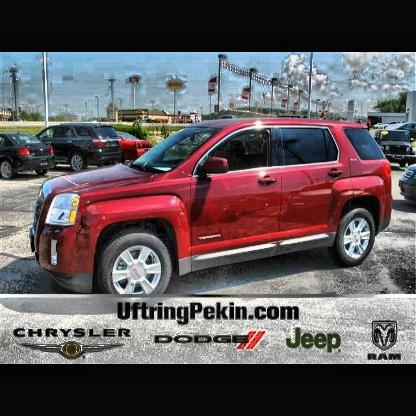GMC Terrain SUV 2012: (28, 115, 395, 299)
